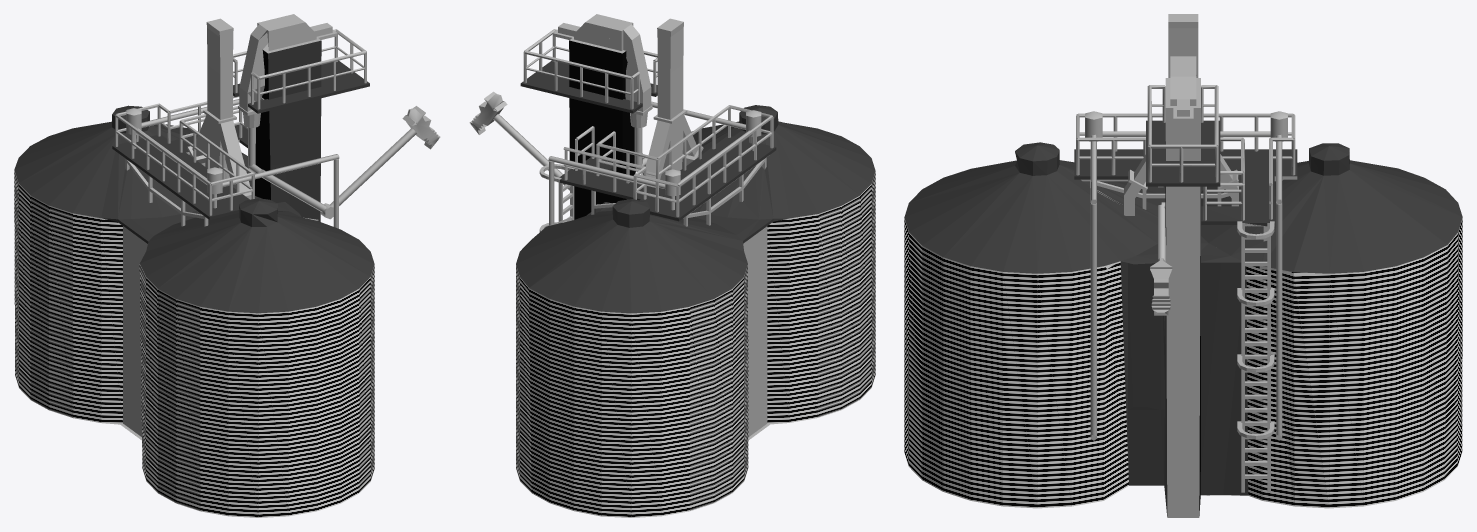
Rendered from Building.obj.
3 views of the same model, side by side, from view 1: azimuth 30°, elevation 25°; view 2: azimuth 150°, elevation 25°; view 3: azimuth 270°, elevation 25° (orthographic). The views are drawn at different scales.
Parts seen in each view (by area): view 1: SILO_L; view 2: SILO_L; view 3: SILO_L.
Part boxes in pixels (<box>): SILO_L: <box>14,14,440,517</box>; SILO_L: <box>469,14,875,517</box>; SILO_L: <box>904,14,1462,517</box>.
Bounding box in the file's own units: 4543 × 5062 × 5715.
3 materials, 1 textured.
